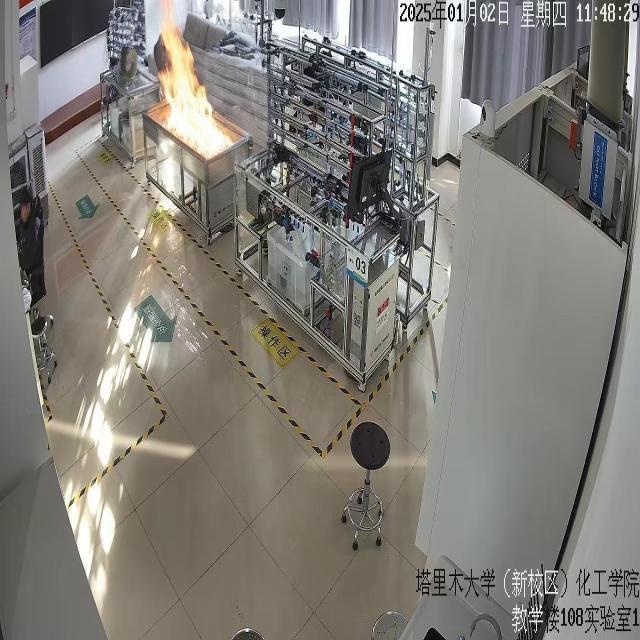smoke: (158, 8, 230, 156)
